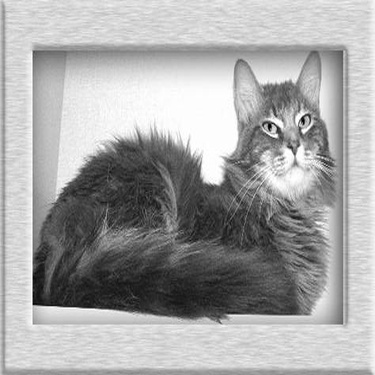cat: (31, 50, 334, 325)
